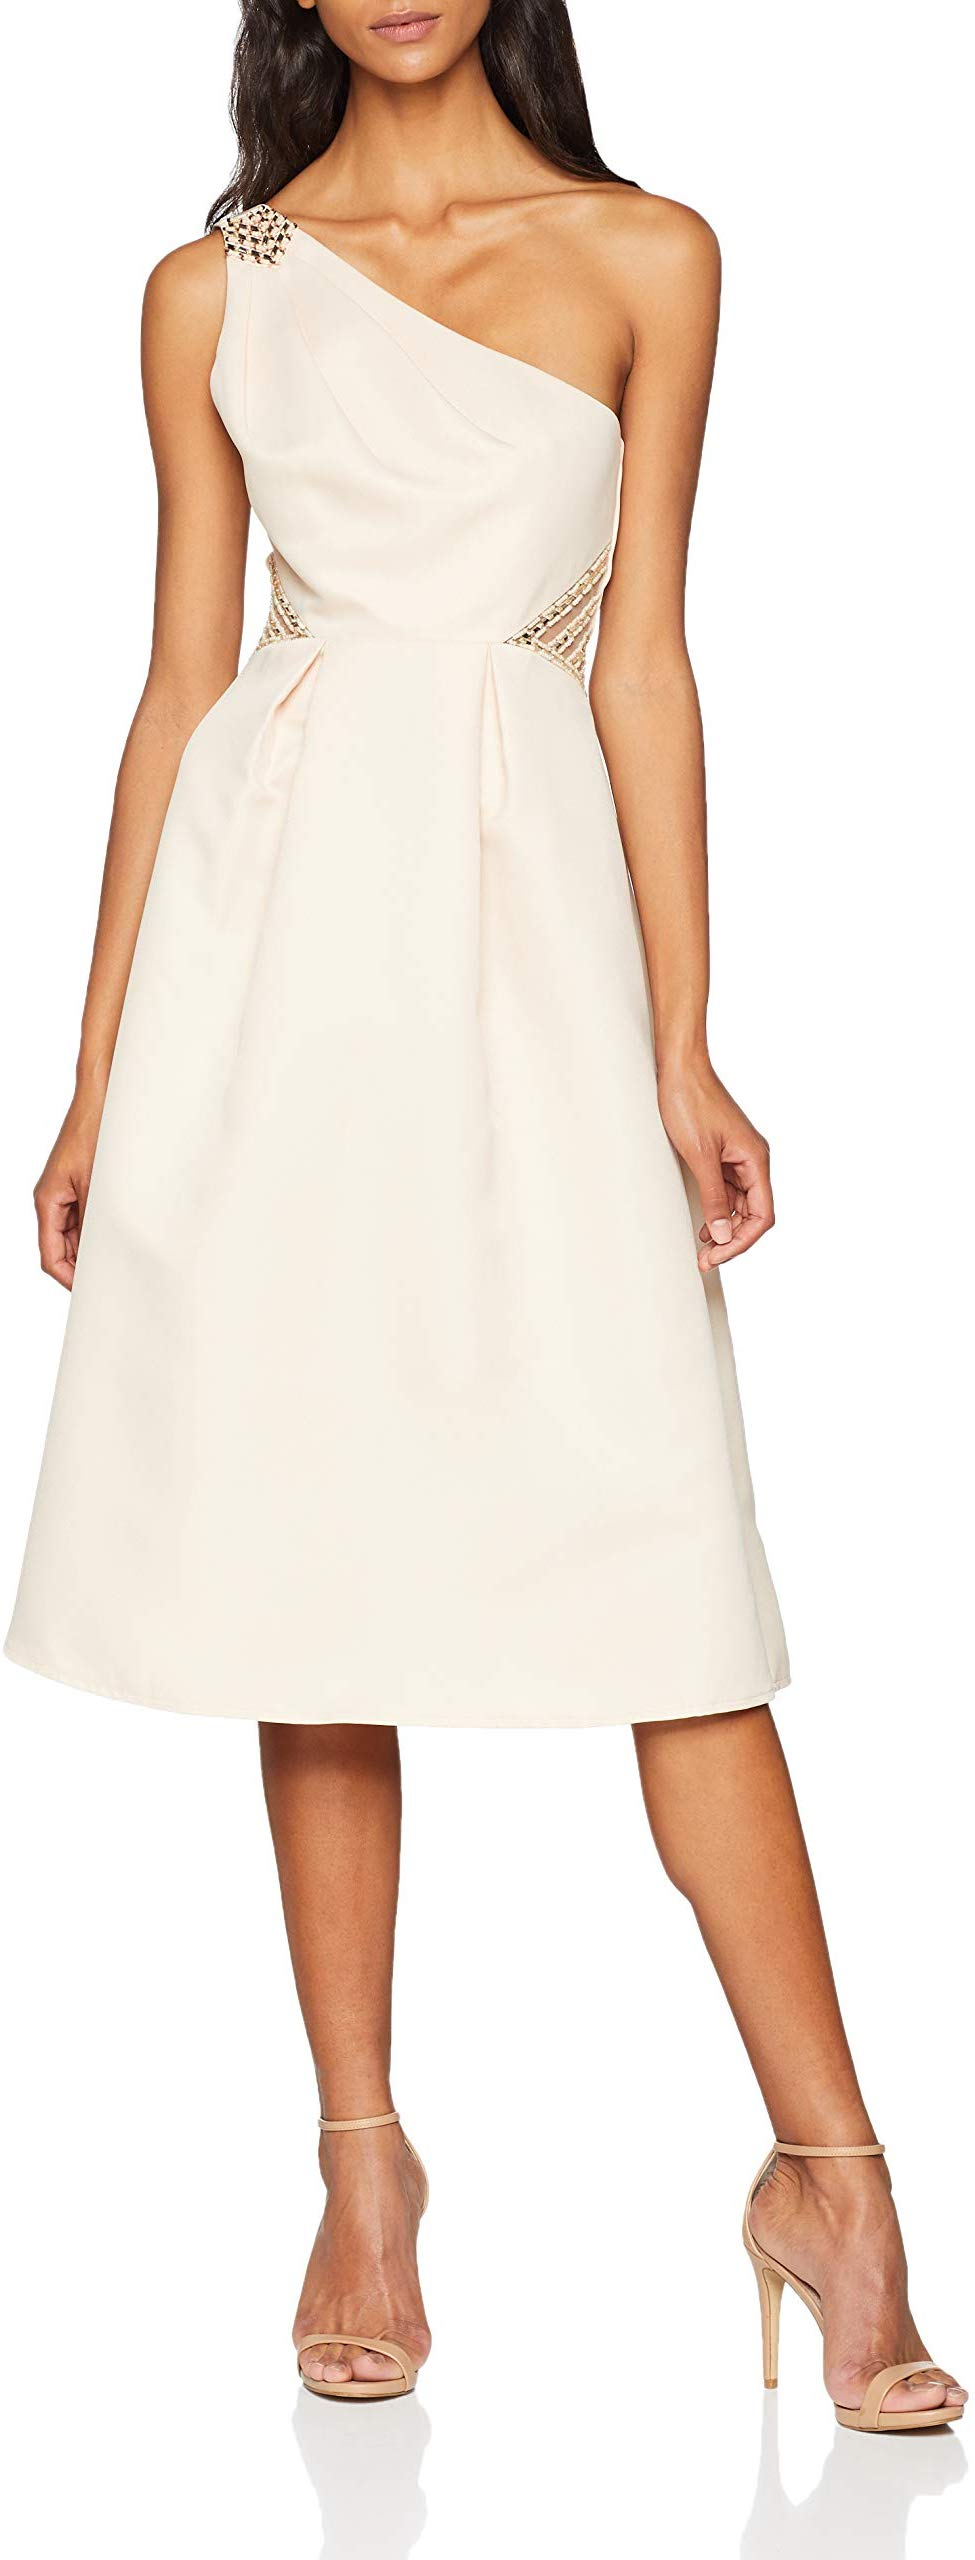C_dress: (33, 243, 854, 1768)
